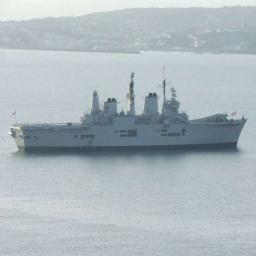Portanaves: (8, 65, 250, 153)
